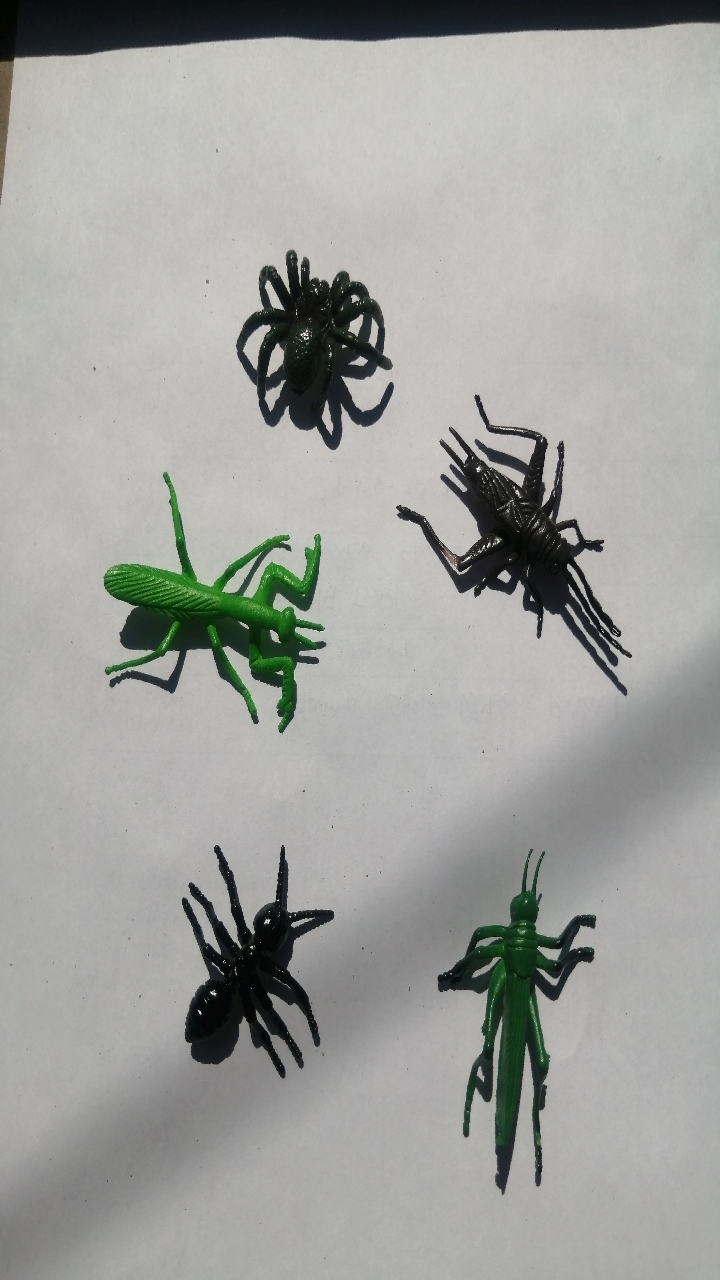intruso: (409, 368, 657, 700), (84, 432, 329, 752), (409, 832, 609, 1166), (149, 794, 334, 1103), (208, 214, 418, 448)
